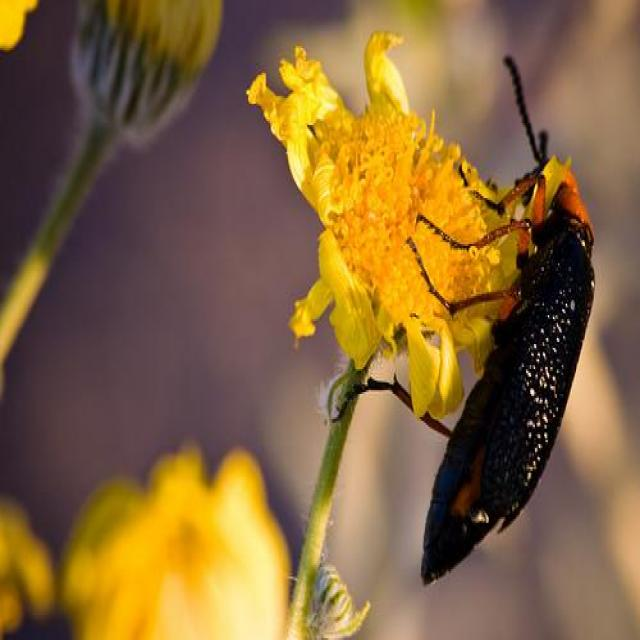BlisterBeetle-Adult-: (399, 41, 602, 594)
